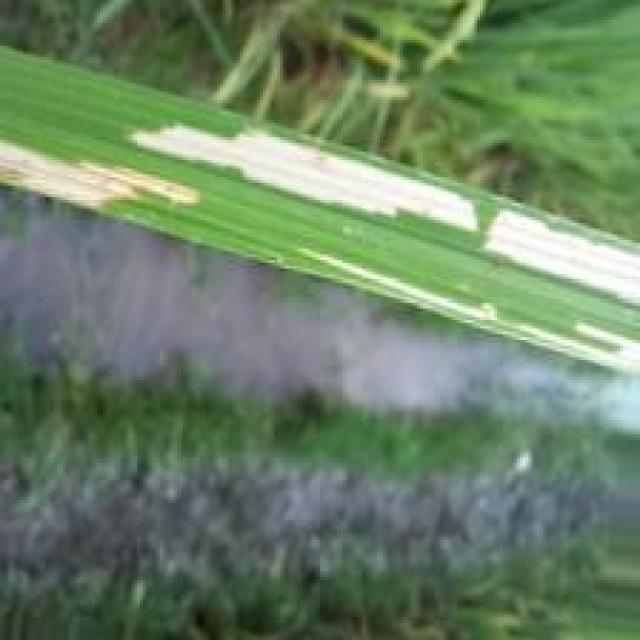Rice_Hispa: (315, 247, 640, 377), (136, 114, 483, 235), (474, 206, 640, 312), (0, 137, 202, 213)
